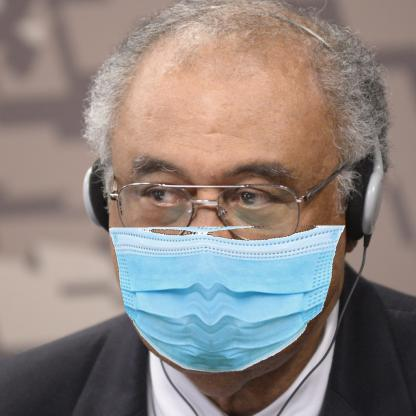Correctly_Masked: (104, 72, 350, 372)
